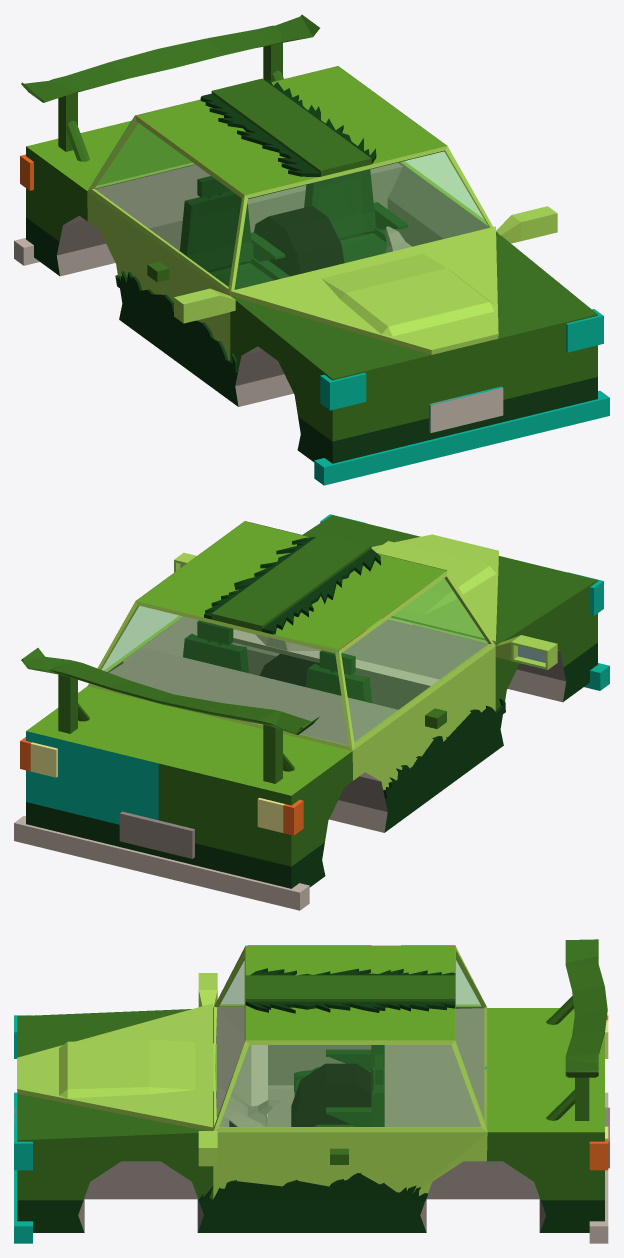
Rendered from CarNb4.fbx.
3 renders of one model, top to bottom at view 1: azimuth 30°, elevation 25°; view 2: azimuth 150°, elevation 25°; view 3: azimuth 270°, elevation 25°, orthographic. The views are drawn at different scales.
Parts seen in each view (by area): view 1: 4 Body, 4 Wheels R, 4 Wheels L; view 2: 4 Body, 4 Wheels R, 4 Wheels L; view 3: 4 Body, 4 Wheels R, 4 Wheels L.
Boxes of the visible parts, bbox=[...] form: 4 Body: bbox=[14, 14, 609, 485]; 4 Wheels R: bbox=[254, 207, 330, 275]; 4 Wheels L: bbox=[265, 206, 344, 276]; 4 Body: bbox=[14, 514, 609, 910]; 4 Wheels R: bbox=[265, 655, 319, 686]; 4 Wheels L: bbox=[259, 653, 318, 684]; 4 Body: bbox=[14, 939, 609, 1243]; 4 Wheels R: bbox=[291, 1063, 371, 1126]; 4 Wheels L: bbox=[291, 1066, 371, 1126].
Size of the model in its own units: 184 by 92.94 by 265.
